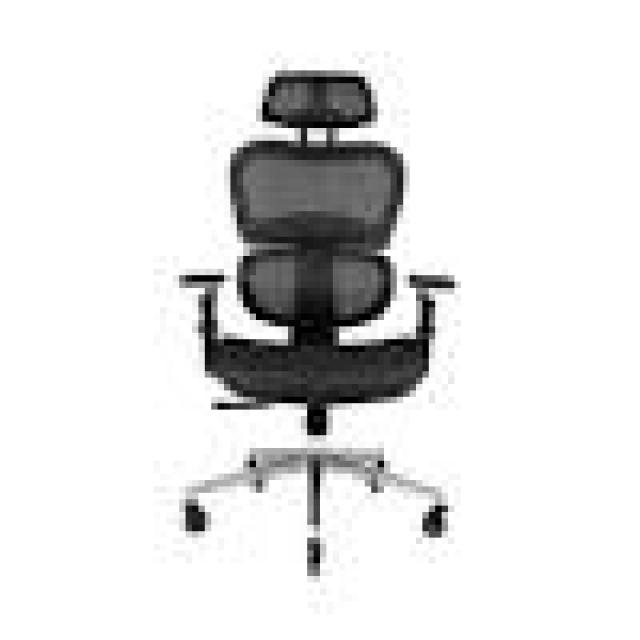chair: (120, 33, 492, 610)
